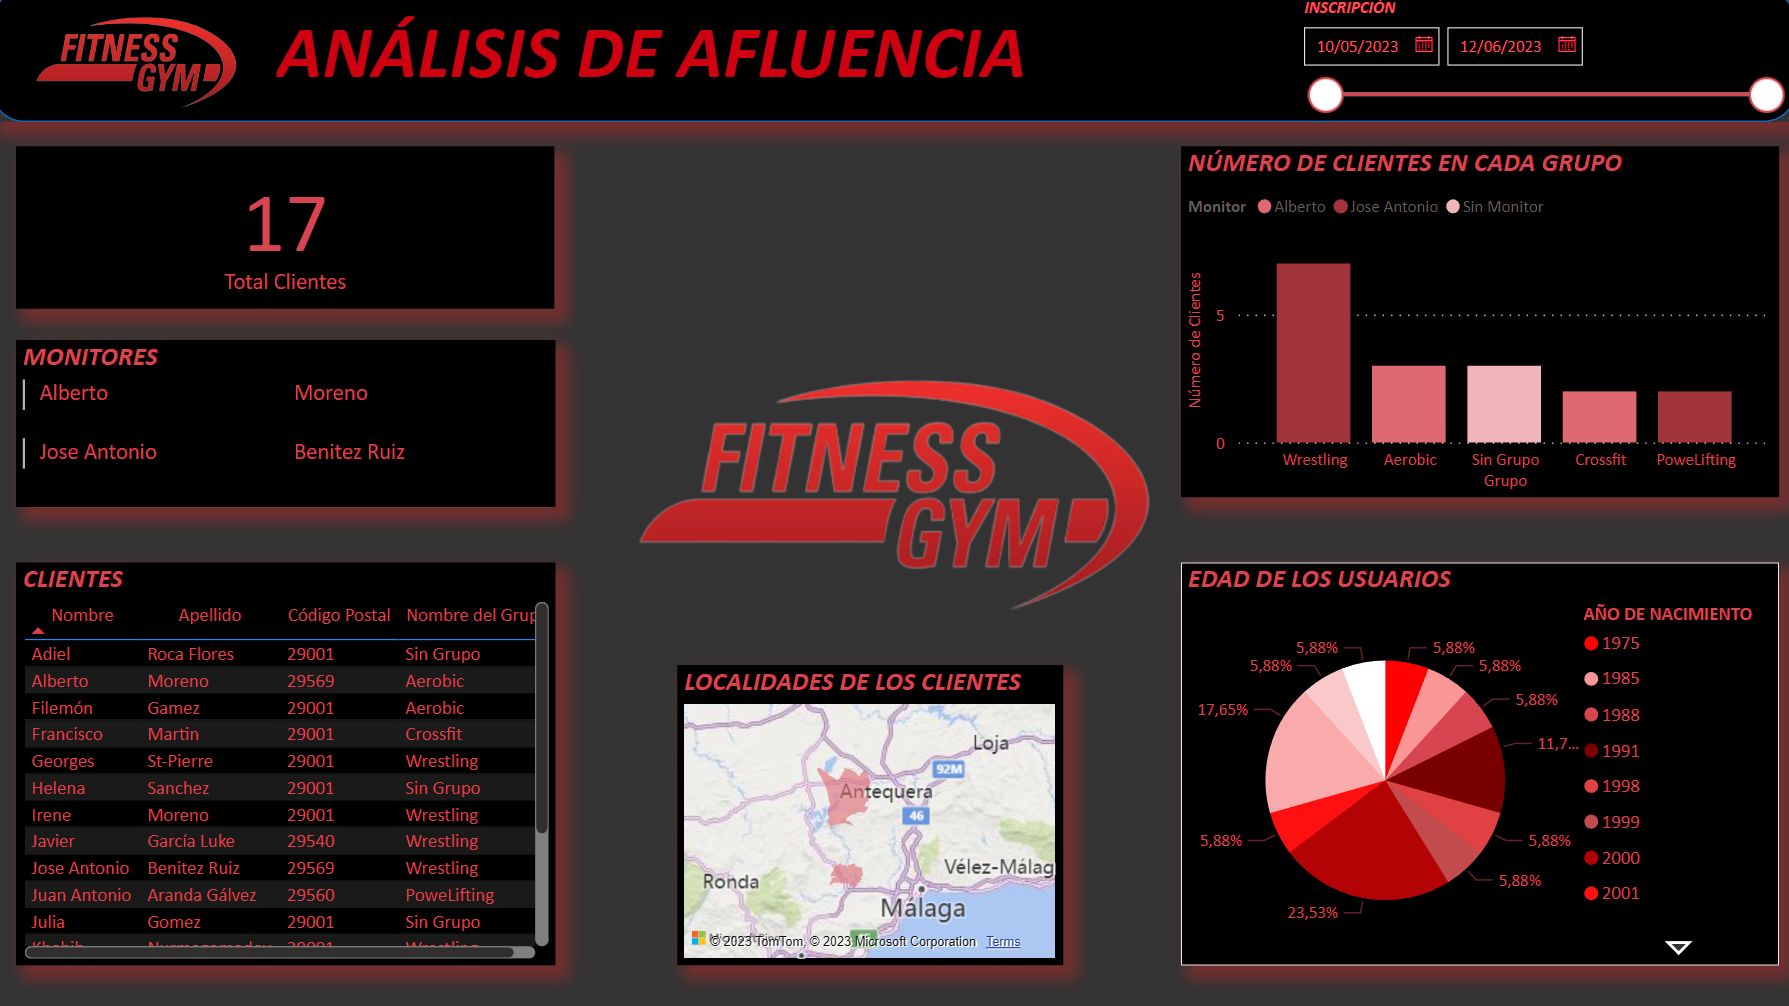

This screenshot's page, from the dashboard's own definition file:
{"tool":"powerbi","page":{"name":"Página 1","canvas":[1280,720],"ordinal":0},"visuals":[{"type":"shape","box":[0,0,1280,93.4],"z":0},{"type":"image","box":[0,0,205.8,102.2],"z":1000},{"type":"textbox","box":[197.2,6.4,577.5,79.9],"z":2000},{"type":"card","fields":{"Values":["fitness_gym_data.Total Clientes"]},"box":[17.7,110.8,381.9,115.2],"z":3000},{"type":"columnChart","title":"NÚMERO DE CLIENTES EN CADA GRUPO","fields":{"Category":["fitness_gym_data.nombre_grupo"],"Y":["CountNonNull(fitness_gym_data.nombre)"],"Series":["fitness_gym_data.nombre_monitor"]},"box":[843.3,110.9,424.1,249],"z":4000},{"type":"pieChart","title":"EDAD DE LOS USUARIOS","fields":{"Y":["CountNonNull(fitness_gym_data.nombre)"],"Category":["fitness_gym_data.fecha_nacimiento.Variación.Jerarquía de fechas.Año"]},"box":[843.3,405.6,424.1,286],"z":5000},{"type":"filledMap","title":"LOCALIDADES DE LOS CLIENTES","fields":{"Category":["fitness_gym_data.codigo_postal"]},"box":[486.3,478.5,273.3,213],"z":6000},{"type":"tableEx","title":"CLIENTES","fields":{"Values":["fitness_gym_data.nombre","fitness_gym_data.apellido","fitness_gym_data.codigo_postal","fitness_gym_data.nombre_grupo"]},"box":[17.5,405.6,382.2,286],"z":7000},{"type":"slicer","fields":{"Values":["fitness_gym_data.inscripcion"]},"box":[917.8,0,362.2,104.4],"z":8000},{"type":"multiRowCard","title":"MONITORES","fields":{"Values":["fitness_gym_data.nombre_monitor","fitness_gym_data.apellido_monitor"]},"box":[17.5,248,382.2,118.7],"z":9000}]}

Visuals, with their boxes in screenshot pixels (x1, y1, x2, y2), scaled from the page's 1280x720 canvas onto the 1789x1006 screenshot:
shape: 0:0:1788:131
image: 0:0:288:143
textbox: 276:9:1083:121
card - fitness_gym_data.Total Clientes: 25:155:559:316
"NÚMERO DE CLIENTES EN CADA GRUPO" columnChart: 1179:155:1771:503
"EDAD DE LOS USUARIOS" pieChart: 1179:567:1771:966
"LOCALIDADES DE LOS CLIENTES" filledMap: 680:669:1062:966
"CLIENTES" tableEx: 24:567:559:966
slicer - fitness_gym_data.inscripcion: 1283:0:1788:146
"MONITORES" multiRowCard: 24:347:559:512
